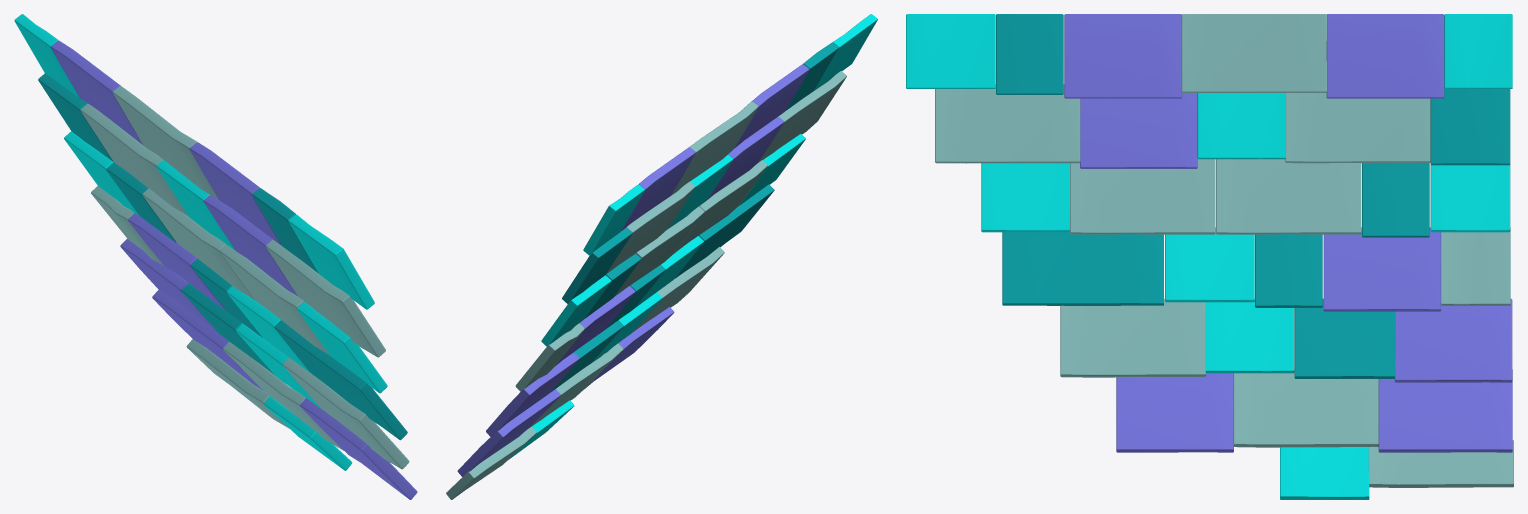
Rendered from SM_Hous03_roof_01.fbx.
3 renders of one model, left to right at view 1: azimuth 30°, elevation 25°; view 2: azimuth 150°, elevation 25°; view 3: azimuth 270°, elevation 25°, orthographic. The views are drawn at different scales.
Parts seen in each view (by area): view 1: SM_Hous03_roof_01; view 2: SM_Hous03_roof_01; view 3: SM_Hous03_roof_01.
Part boxes in pixels (left/top/right/bottom): SM_Hous03_roof_01: left=14, top=14, right=417, bottom=499; SM_Hous03_roof_01: left=446, top=14, right=877, bottom=499; SM_Hous03_roof_01: left=906, top=14, right=1513, bottom=499.
Size of the model in its own units: 1.41 by 2.59 by 3.62.
